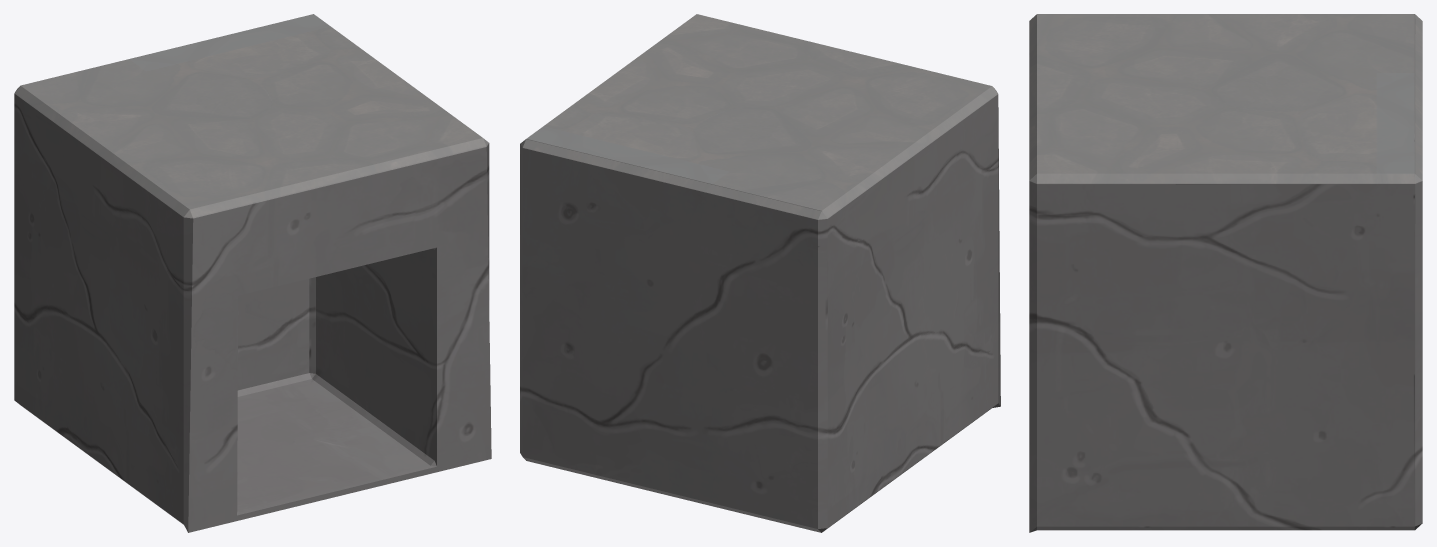
The model's file is platform1.fbx.
3 views of the same model, side by side, from view 1: azimuth 30°, elevation 25°; view 2: azimuth 150°, elevation 25°; view 3: azimuth 270°, elevation 25° (orthographic). The views are drawn at different scales.
Visible parts, largest first — view 1: Cube.033; view 2: Cube.033; view 3: Cube.033.
Part boxes in pixels (bbox=[...]): Cube.033: bbox=[14, 14, 491, 532]; Cube.033: bbox=[520, 14, 1000, 532]; Cube.033: bbox=[1029, 14, 1422, 532].
Size of the model in its own units: 3.63 by 3.63 by 3.63.
